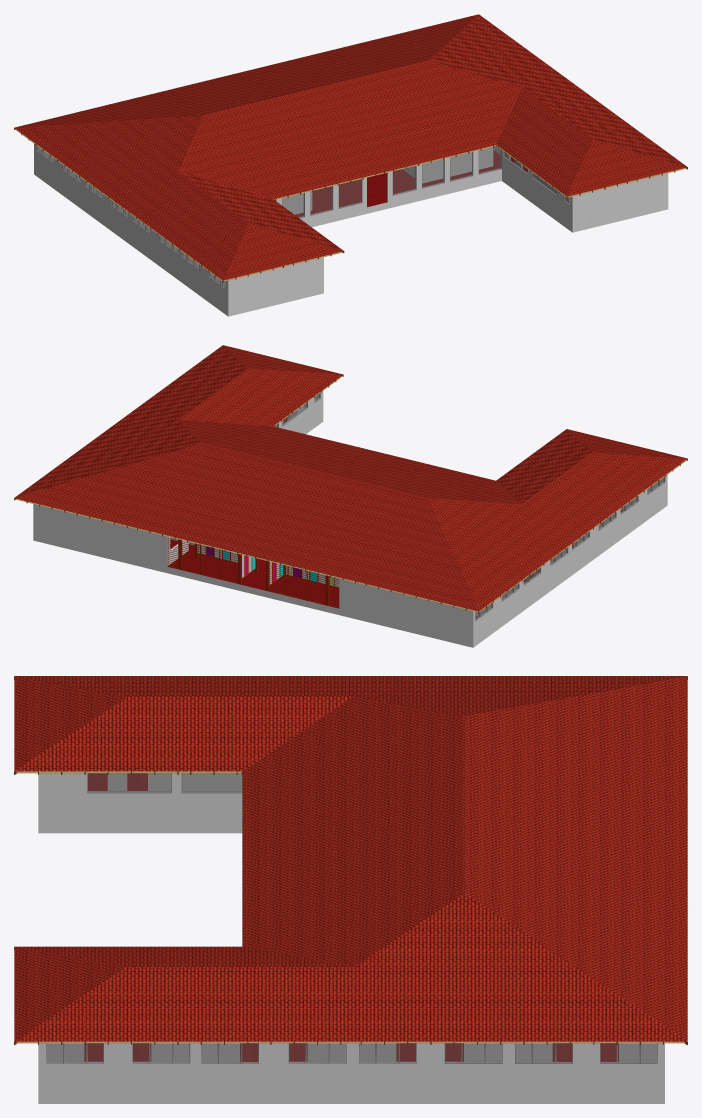
File: Resis.fbx
The picture shows the model from 3 angles, top to bottom: view 1: azimuth 30°, elevation 25°; view 2: azimuth 150°, elevation 25°; view 3: azimuth 270°, elevation 25°; orthographic projection. The views are drawn at different scales.
Parts seen in each view (by area): view 1: EdificioResis; view 2: EdificioResis; view 3: EdificioResis.
Part boxes in pixels (left/top/right/bottom): EdificioResis: left=14, top=14, right=687, bottom=316; EdificioResis: left=14, top=345, right=687, bottom=647; EdificioResis: left=14, top=676, right=687, bottom=1103.
Bounding box in the file's own units: 3722 × 598 × 2899.
Materials: 22 (10 with a texture image).
